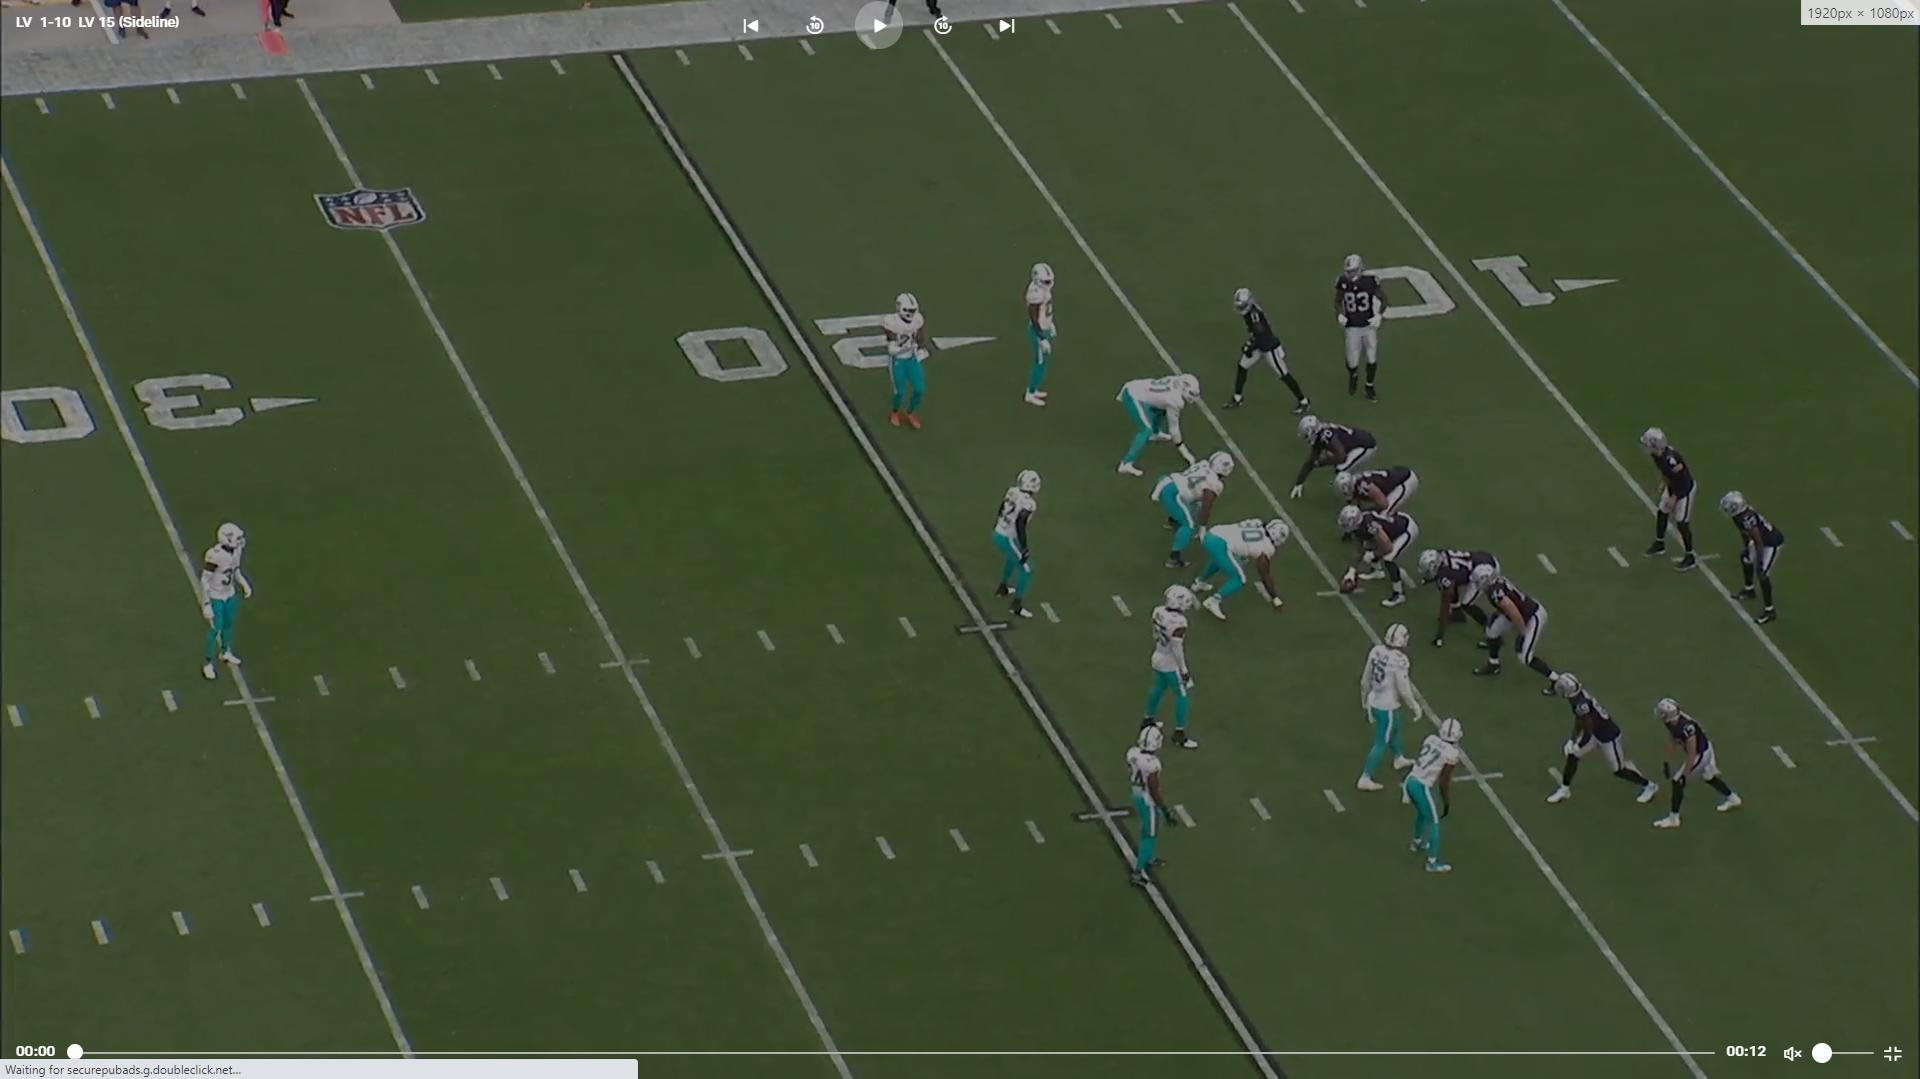defense: (1404, 712, 1476, 879), (1143, 576, 1207, 756), (1192, 518, 1296, 627), (193, 521, 260, 687), (1348, 621, 1412, 794), (1156, 445, 1237, 578), (1118, 371, 1212, 480), (1127, 723, 1180, 892), (994, 466, 1050, 623), (886, 289, 936, 437), (1021, 260, 1065, 417)
oline: (1477, 565, 1559, 690), (1422, 546, 1507, 654), (1337, 504, 1424, 607), (1294, 414, 1386, 505), (1331, 463, 1419, 520)
qb: (1640, 422, 1705, 572)
skill: (1545, 669, 1658, 815), (1654, 696, 1747, 831), (1226, 282, 1311, 410), (1713, 483, 1784, 627), (1333, 257, 1389, 405)
